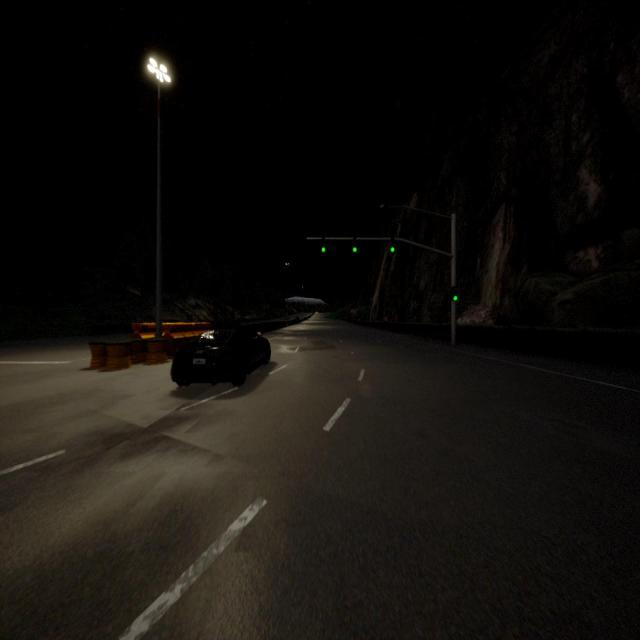Traffic_Signs: (384, 316, 388, 322)
Vehicle: (170, 328, 270, 388)
traffic_light: (451, 286, 458, 302), (390, 237, 396, 255), (352, 237, 358, 253), (322, 237, 326, 253)
